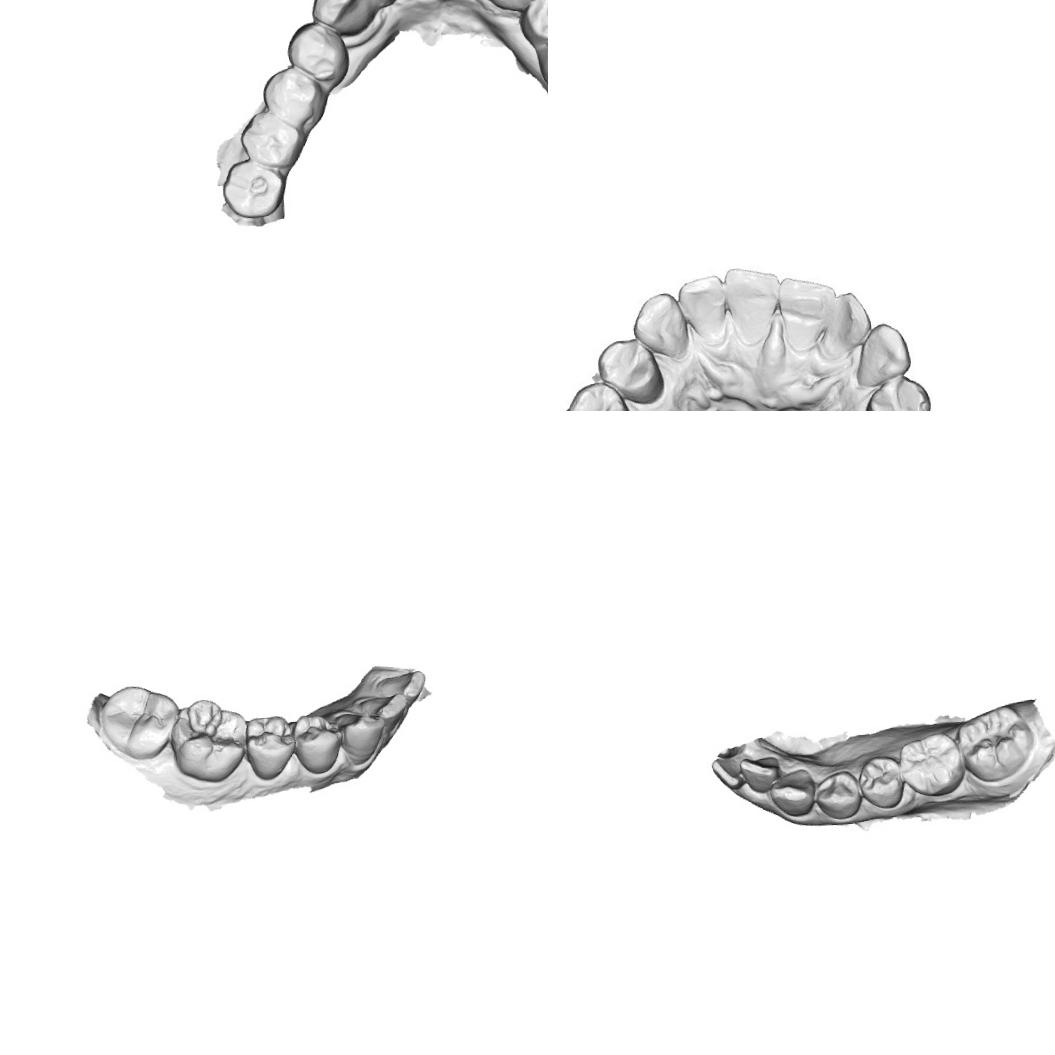canine: (628, 289, 692, 364), (851, 319, 912, 390), (331, 705, 388, 768), (766, 768, 816, 818), (308, 0, 371, 39), (489, 0, 547, 16)
incisor: (776, 272, 839, 352), (720, 260, 780, 340), (822, 286, 876, 355), (678, 273, 730, 342), (352, 688, 412, 730), (370, 666, 428, 706), (738, 752, 782, 794), (710, 750, 754, 791)
molar: (166, 693, 254, 788), (94, 680, 183, 764), (954, 702, 1037, 784), (233, 106, 306, 173), (896, 730, 967, 797), (219, 156, 287, 221)
premolar: (594, 332, 664, 405), (261, 62, 329, 132), (282, 18, 348, 86), (240, 710, 298, 784), (288, 709, 343, 777), (812, 767, 865, 822), (855, 754, 905, 812), (860, 371, 932, 411), (566, 378, 638, 411), (519, 0, 548, 45)
